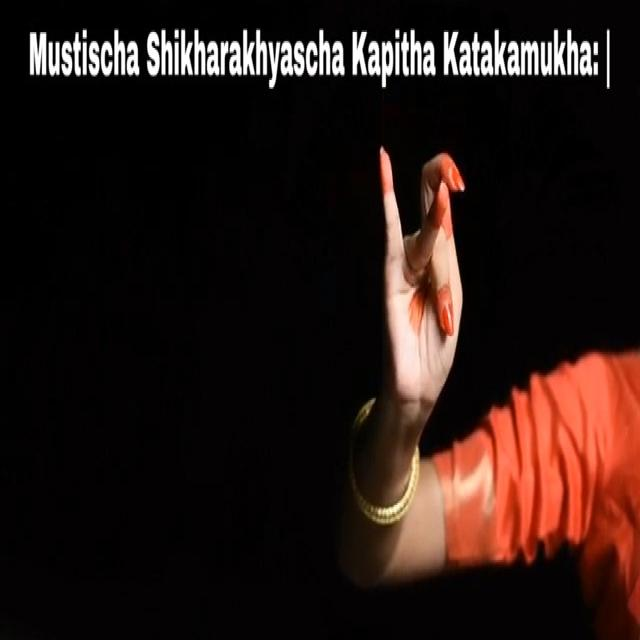Katakamukha: (360, 120, 482, 422)
bangle: (333, 441, 431, 537)
text: (29, 12, 617, 102)
